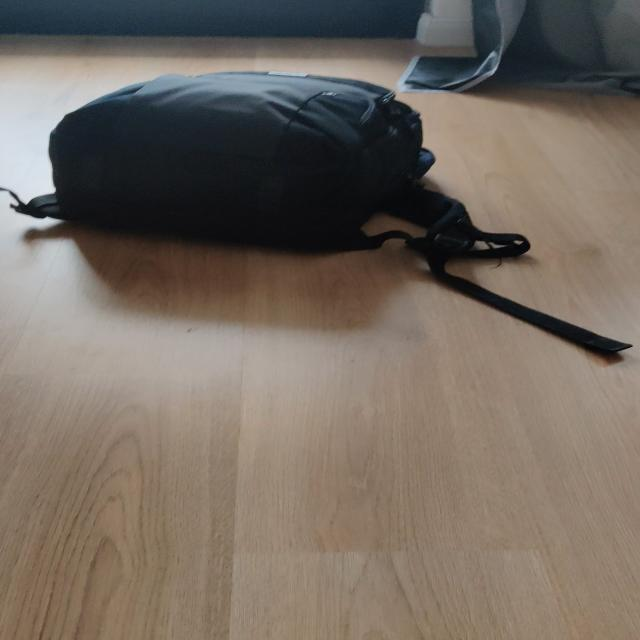backpack: (18, 64, 452, 254)
